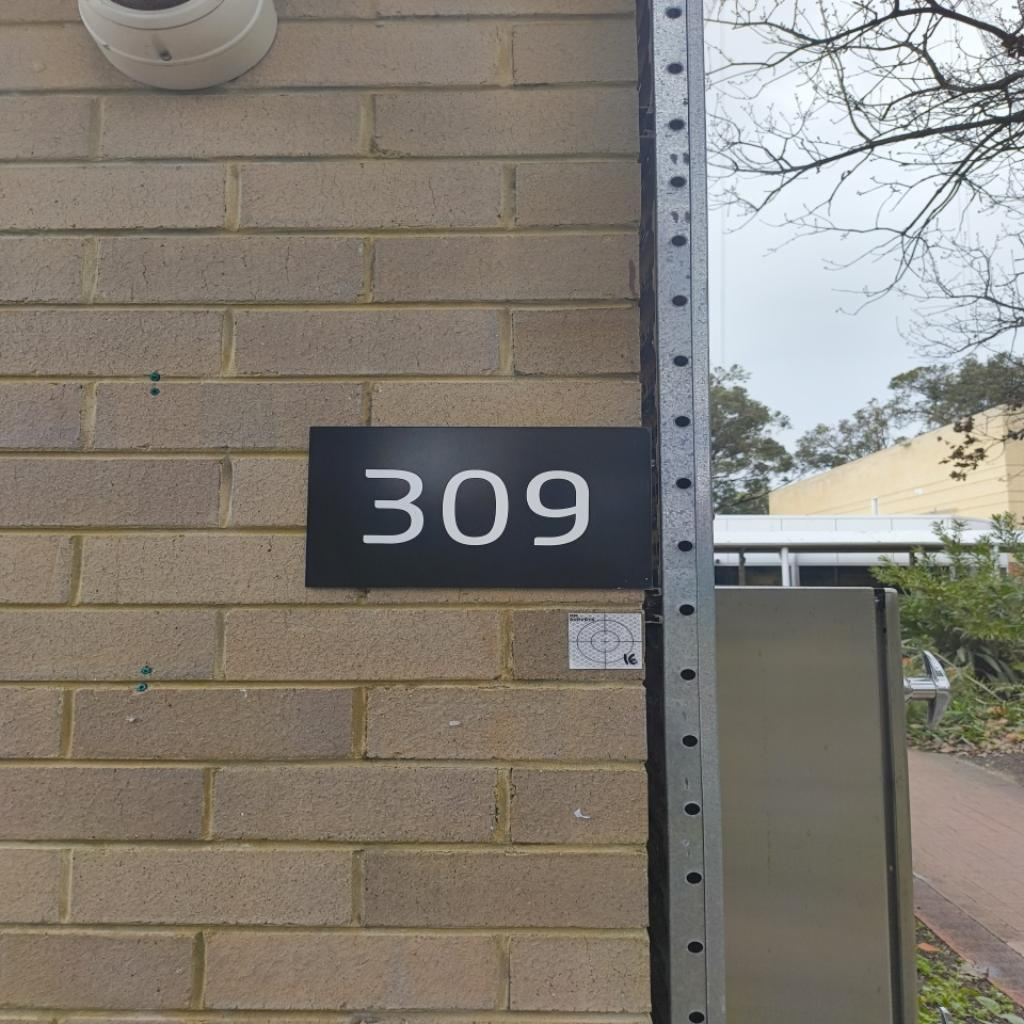BuildingCodes: (358, 460, 598, 552)
